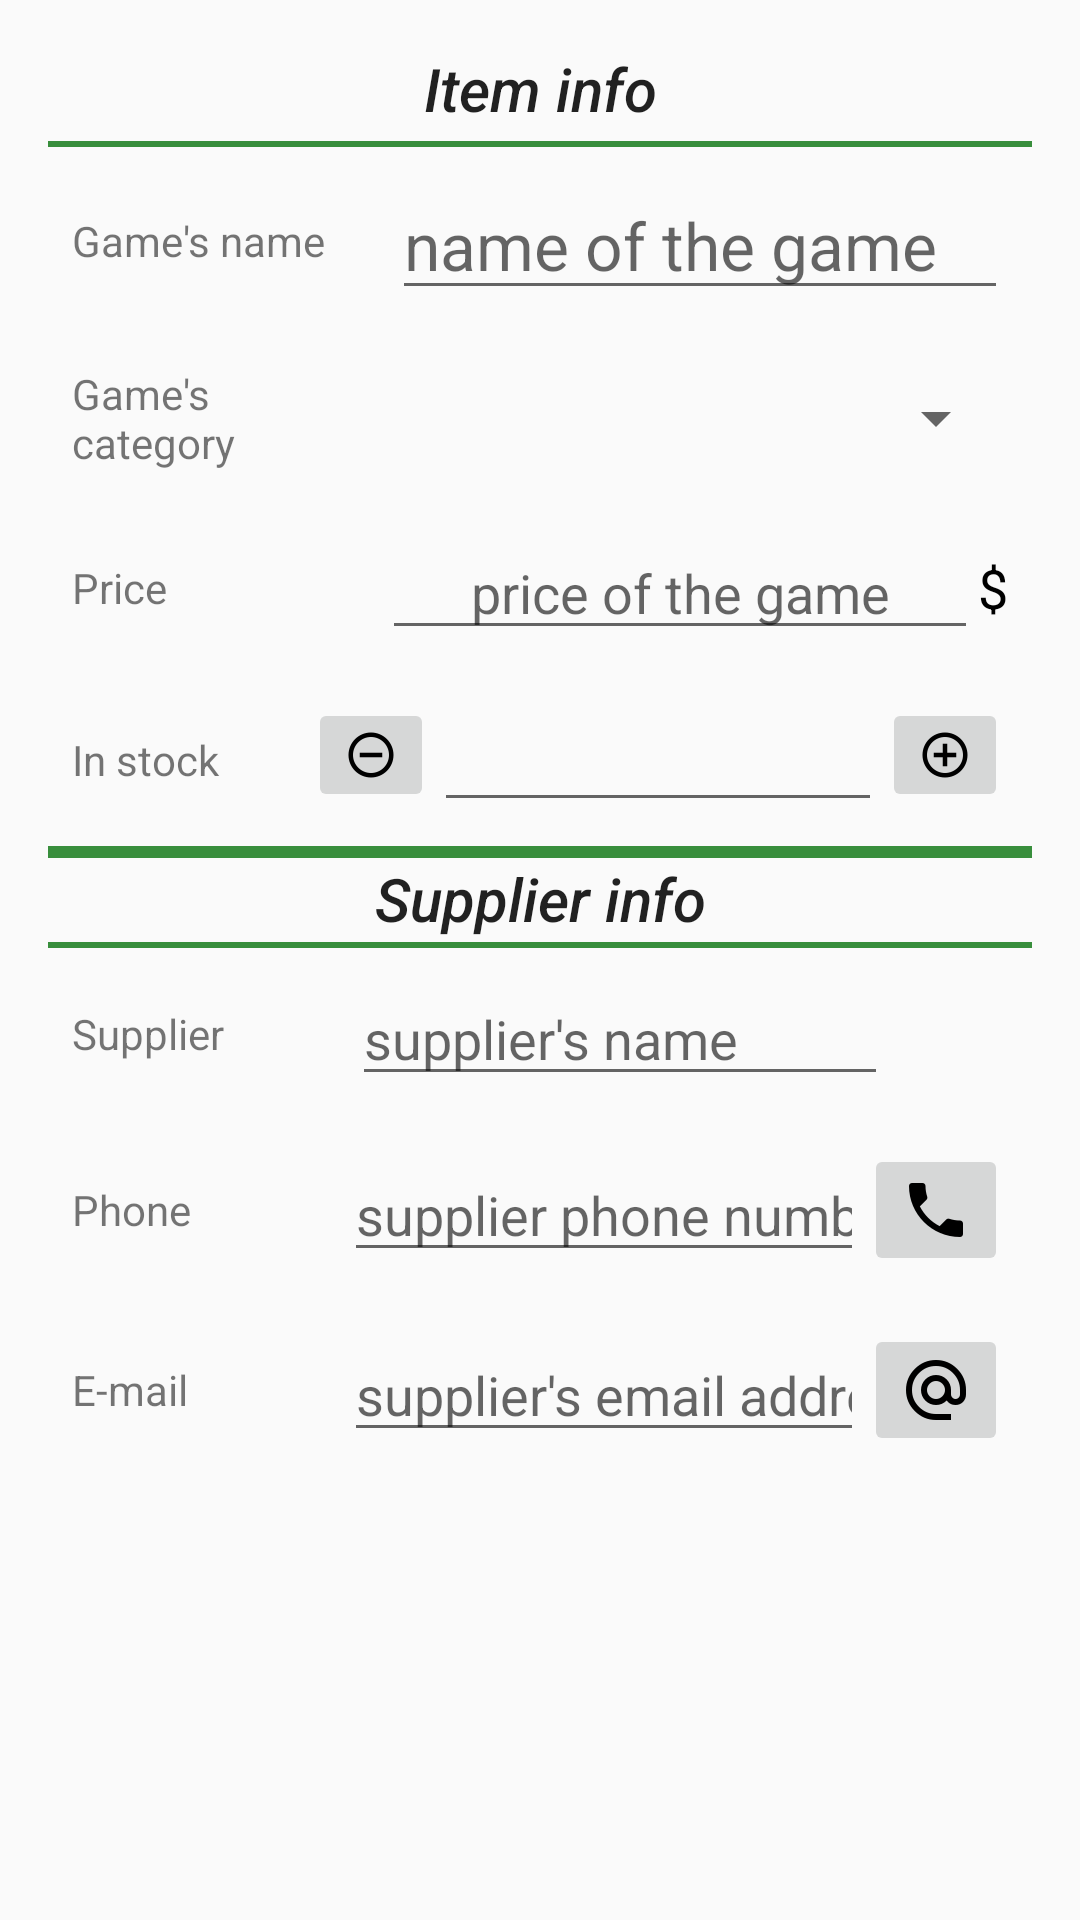

Named icons in this screenshot (1080 × 1920) and their centers, (x=x, y=y):
minus: (x=371, y=755)
plus: (x=945, y=755)
